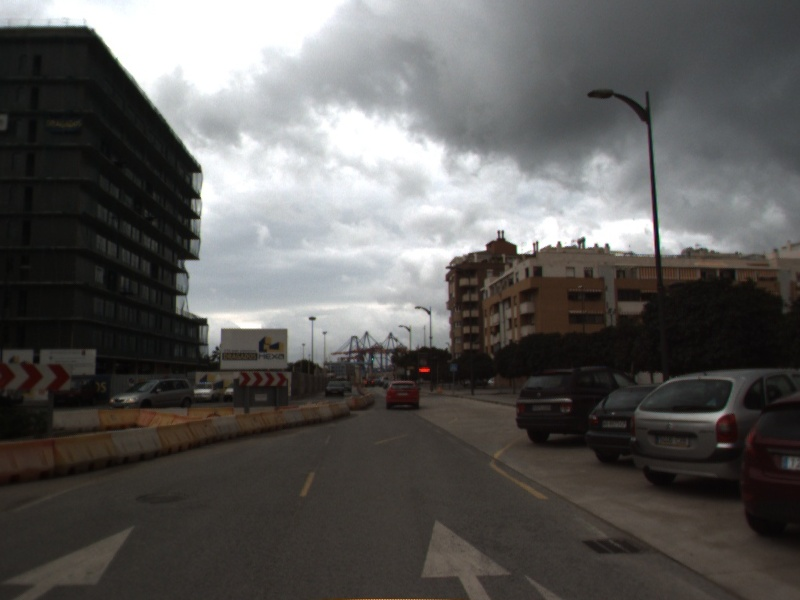STRAIGHT: (1, 523, 139, 600), (419, 515, 516, 600)
